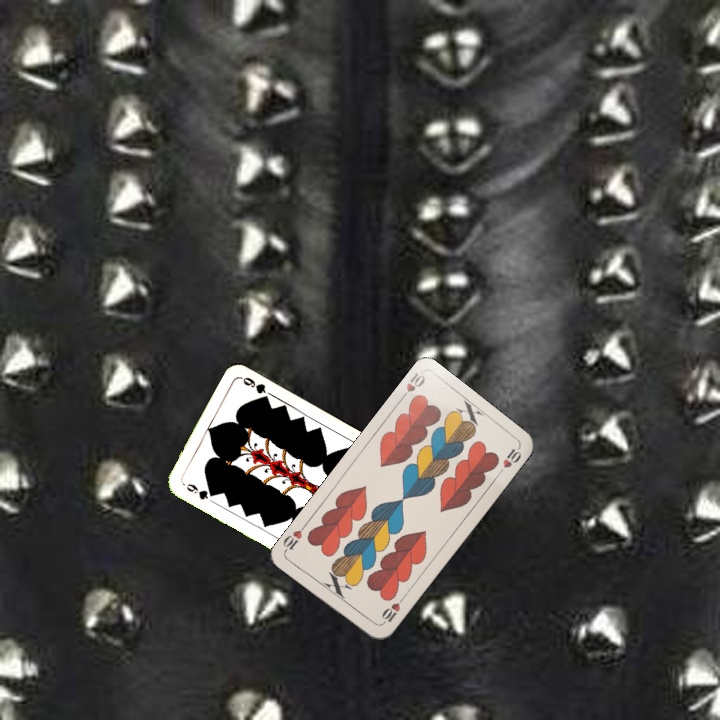G9: (182, 479, 217, 502)
H10: (395, 368, 428, 403), (377, 593, 406, 628)
